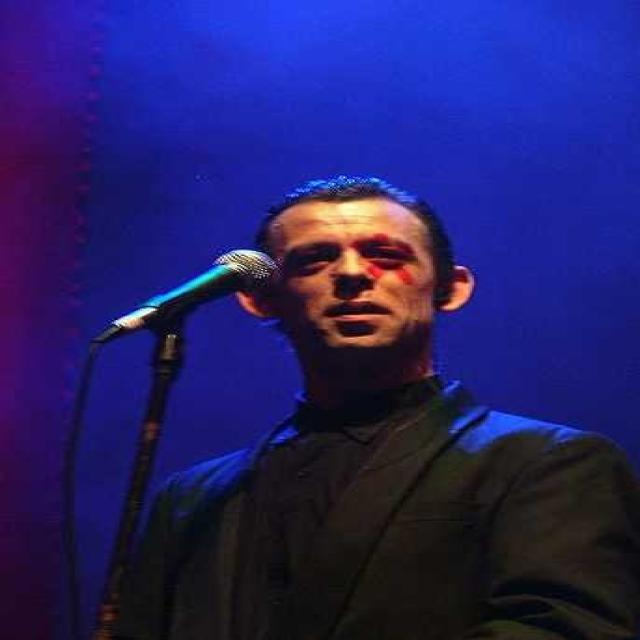microphone: (102, 250, 278, 336)
